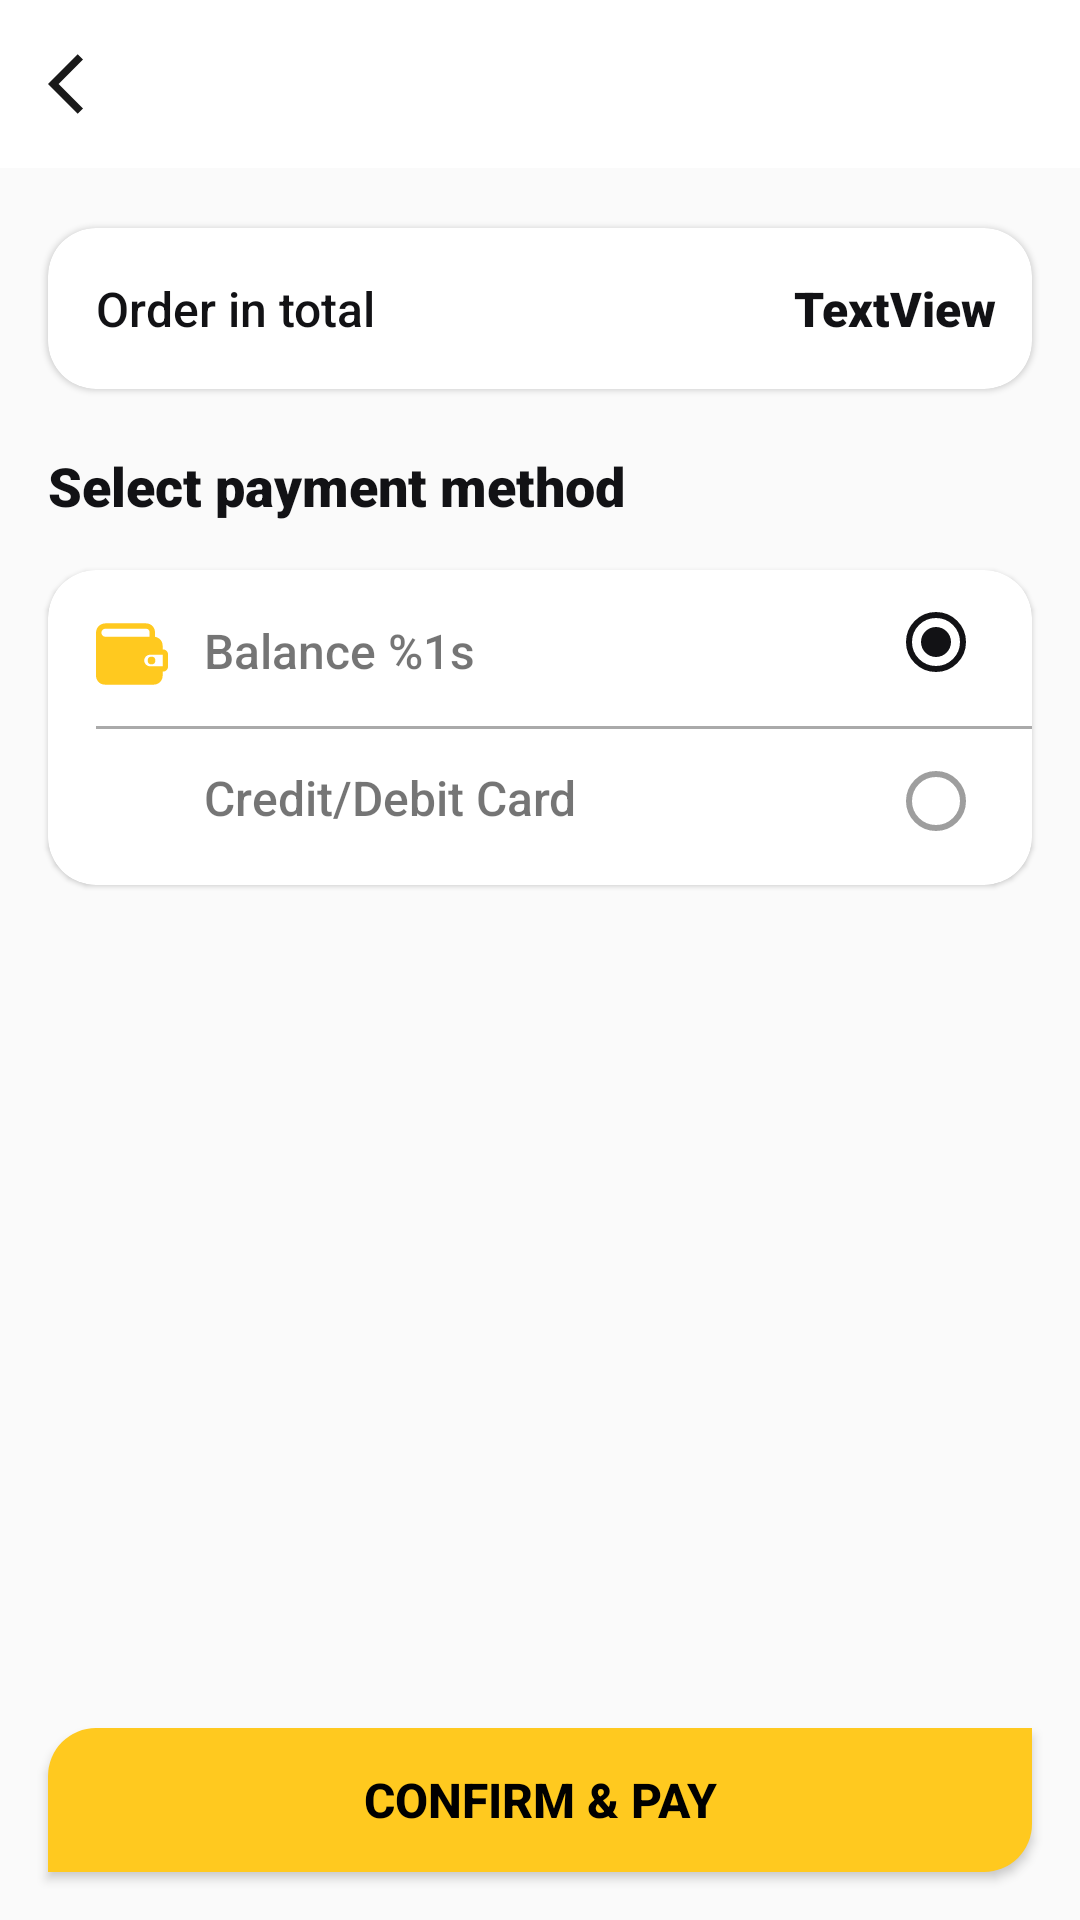

Point at icon controls on the screen. Image size 1080×1920, points as (x=x, y=y).
arrow back: (x=65, y=84)
wallet: (x=132, y=654)
